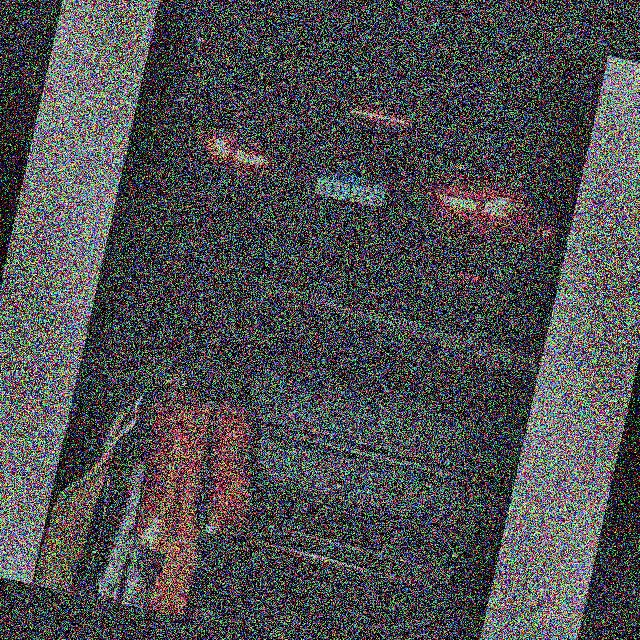License Plate: (310, 162, 392, 212)
